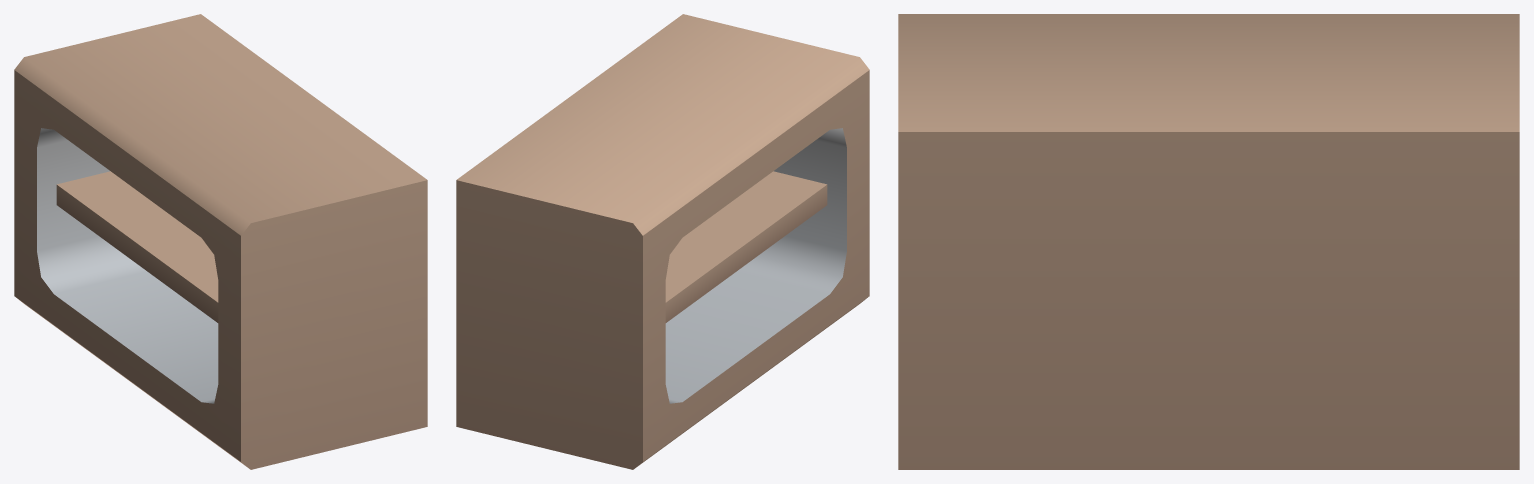
File: cabinet-basic-upper-open-short (%wall).glb
The picture shows the model from 3 angles, left to right: view 1: azimuth 30°, elevation 25°; view 2: azimuth 150°, elevation 25°; view 3: azimuth 270°, elevation 25°; orthographic projection. The views are drawn at different scales.
Parts seen in each view (by area): view 1: cabinet-basic-upper-open-short (%wall); view 2: cabinet-basic-upper-open-short (%wall); view 3: cabinet-basic-upper-open-short (%wall).
Boxes of the visible parts, x1,y1,x2,y2 form: cabinet-basic-upper-open-short (%wall): (14, 14, 427, 469); cabinet-basic-upper-open-short (%wall): (456, 14, 869, 469); cabinet-basic-upper-open-short (%wall): (898, 14, 1519, 469).
Bounding box in the file's own units: 0.2375 × 0.3 × 0.5.
